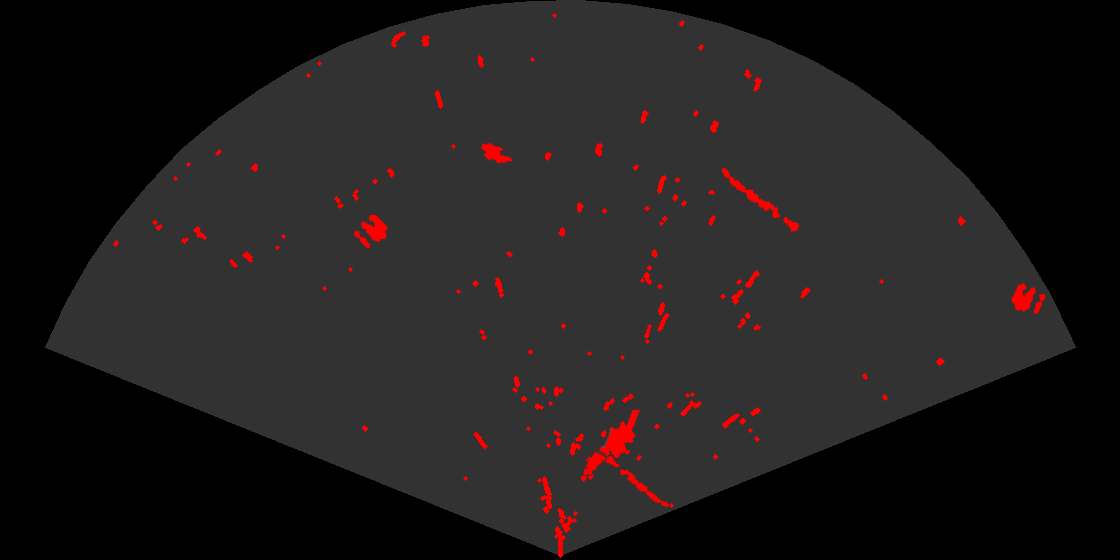AUV: (479, 141, 514, 165)
ball: (352, 213, 389, 250), (1010, 281, 1047, 316)
chain: (720, 166, 801, 234), (594, 448, 671, 509)
frogman: (582, 410, 641, 477)
